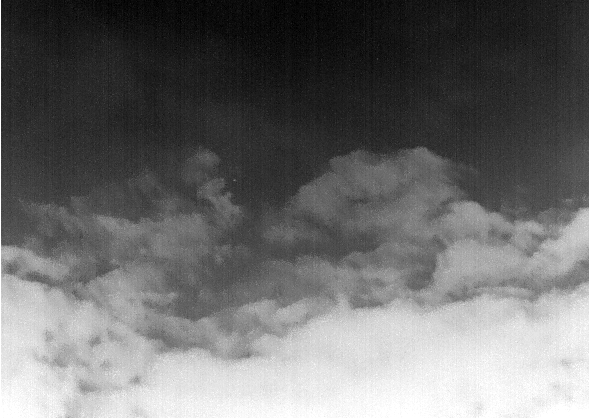dim target: (232, 177, 237, 183)
